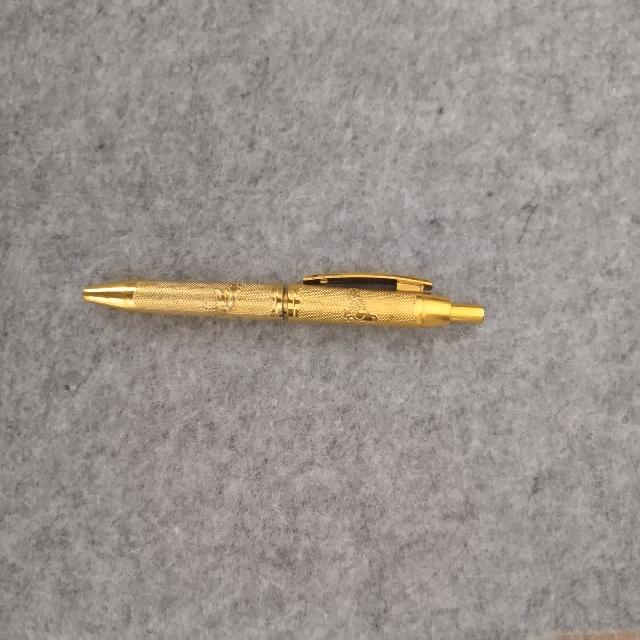signature pen: (84, 273, 483, 326)
